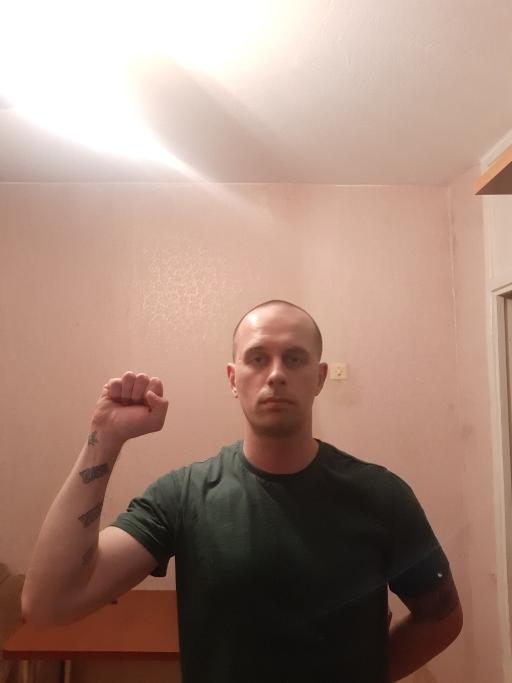fist: (90, 369, 172, 441)
